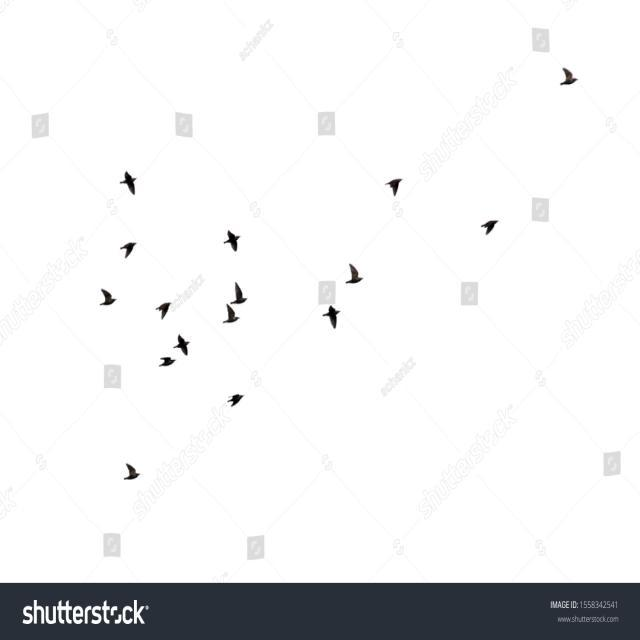bird: (90, 117, 144, 209), (474, 191, 521, 255), (221, 371, 262, 438), (326, 248, 376, 300), (208, 280, 260, 328), (379, 174, 422, 228), (168, 325, 213, 370), (84, 262, 120, 312), (308, 296, 348, 340), (100, 448, 139, 491), (213, 208, 246, 258), (548, 49, 578, 98), (116, 216, 144, 262), (152, 286, 178, 330), (208, 302, 246, 330), (148, 350, 178, 384)
